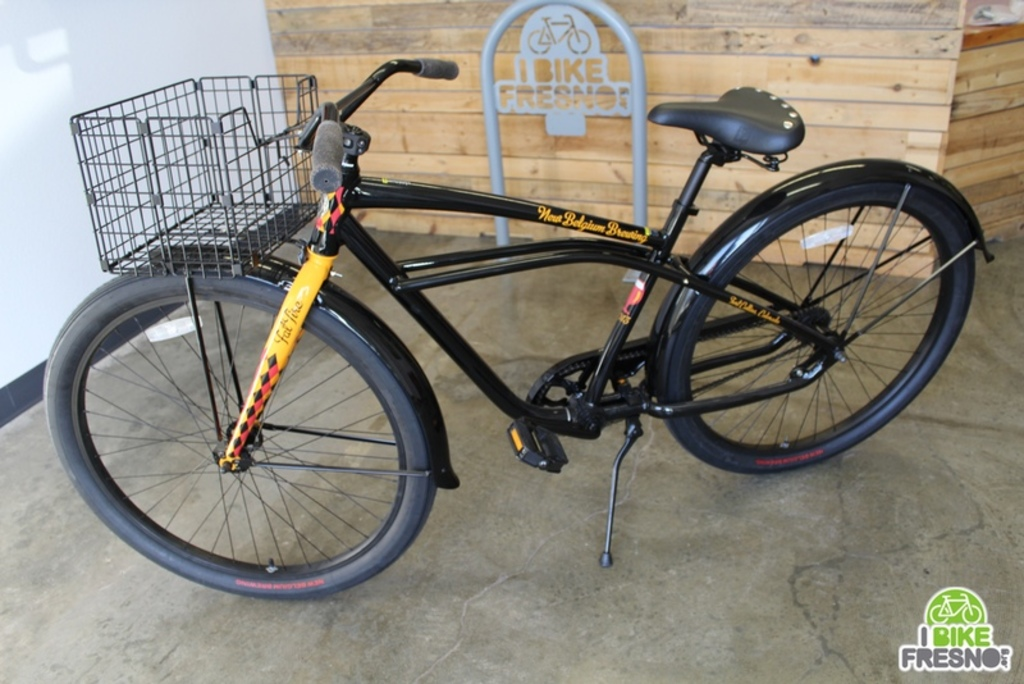Bike_toward: (86, 41, 922, 563)
